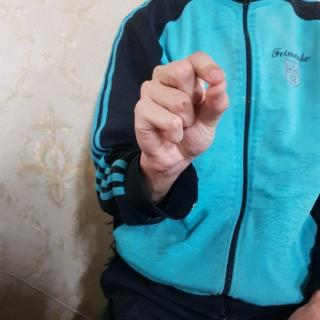FAA: (128, 50, 232, 182)
